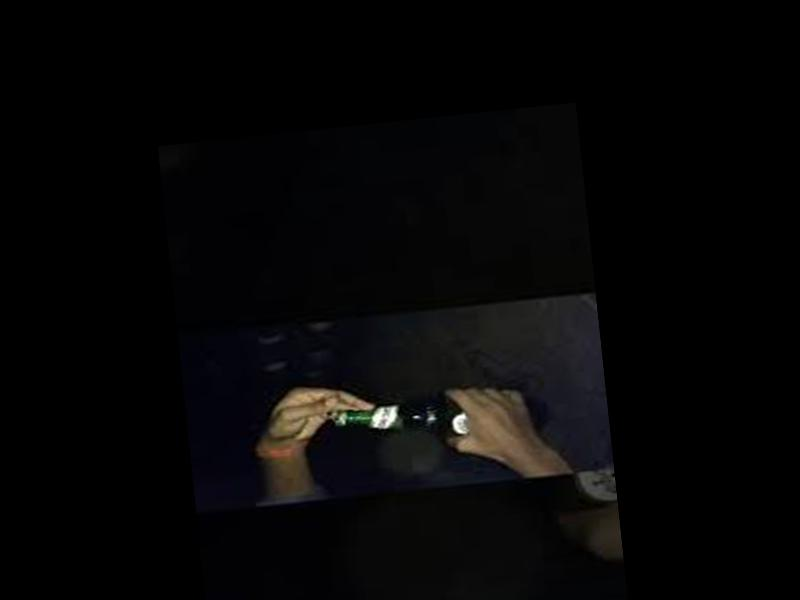Beer: (333, 384, 548, 458)
